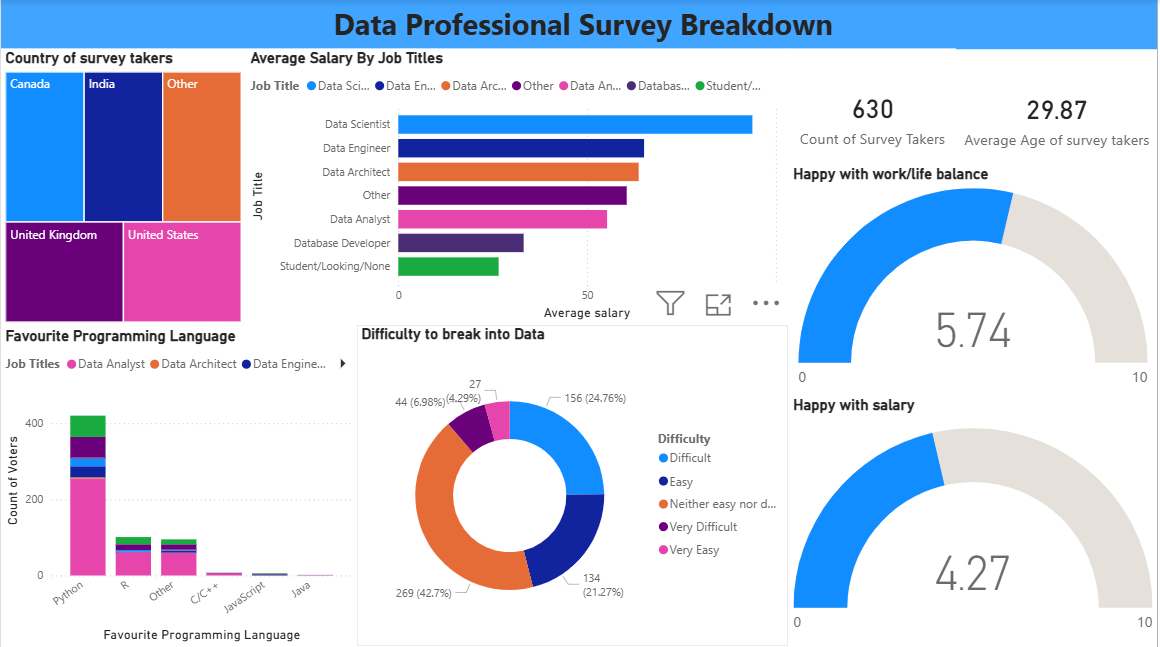

This screenshot's page, from the dashboard's own definition file:
{"tool":"powerbi","page":{"name":"Page 1","canvas":[1280,720],"ordinal":0},"visuals":[{"type":"textbox","box":[0,0,1279.6,55.6],"z":0},{"type":"card","fields":{"Values":["Count(Data Professional Survey.Unique ID)"]},"box":[872.1,55.6,185.2,151],"z":1000},{"type":"card","fields":{"Values":["Avg(Data Professional Survey.Q10 - Current Age)"]},"box":[1057.3,57,222.3,149.6],"z":2000},{"type":"barChart","title":"Average Salary By Job Titles","fields":{"Category":["Data Professional Survey.Q1 - Which Title Best Fits your Current Role?.1"],"Y":["Avg(Data Professional Survey.Average salary)"],"Series":["Data Professional Survey.Q1 - Which Title Best Fits your Current Role?.1"]},"box":[270.7,55.6,601.3,304.9],"z":3000},{"type":"columnChart","title":"Favourite Programming Language","fields":{"Category":["Data Professional Survey.Q5 - Favorite Programming Language.1"],"Y":["CountNonNull(Data Professional Survey.Unique ID)"],"Series":["Data Professional Survey.Q1 - Which Title Best Fits your Current Role?.1"]},"box":[0,363.4,393.3,353.4],"z":4000},{"type":"treemap","title":"Country of survey takers","fields":{"Group":["Data Professional Survey.Q11 - Which Country do you live in?.1"],"Values":["Count(Data Professional Survey.Q11 - Which Country do you live in?.1)"]},"box":[0,55.6,270.7,307.8],"z":5000},{"type":"gauge","title":"Happy with work/life balance","fields":{"MinValue":["Min(Data Professional Survey.Q6 - How Happy are you in your Current Position with the following? (Work/Life Balance))"],"MaxValue":["Max(Data Professional Survey.Q6 - How Happy are you in your Current Position with the following? (Work/Life Balance))1"],"Y":["Avg(Data Professional Survey.Q6 - How Happy are you in your Current Position with the following? (Work/Life Balance))"]},"box":[872.1,183.8,407.5,255.1],"z":6000},{"type":"gauge","title":"Happy with salary","fields":{"Y":["Avg(Data Professional Survey.Q6 - How Happy are you in your Current Position with the following? (Salary))"],"MinValue":["Min(Data Professional Survey.Q6 - How Happy are you in your Current Position with the following? (Salary))"],"MaxValue":["Max(Data Professional Survey.Q6 - How Happy are you in your Current Position with the following? (Salary))"]},"box":[872.1,438.9,407.5,280.7],"z":7000},{"type":"donutChart","title":"Difficulty to break into Data","fields":{"Series":["Data Professional Survey.Q7 - How difficult was it for you to break into Data?"],"Y":["CountNonNull(Data Professional Survey.Q7 - How difficult was it for you to break into Data?)"]},"box":[393.3,360.5,478.8,356.2],"z":8000}]}

Visuals, with their boxes in screenshot pixels (x1, y1, x2, y2), scaled from the page's 1280x720 canvas onto the 1160x647 screenshot:
textbox: (0, 0, 1159, 50)
card - Count(Data Professional Survey.Unique ID): (790, 50, 958, 186)
card - Avg(Data Professional Survey.Q10 - Current Age): (958, 51, 1159, 186)
"Average Salary By Job Titles" barChart: (245, 50, 790, 324)
"Favourite Programming Language" columnChart: (0, 327, 356, 644)
"Country of survey takers" treemap: (0, 50, 245, 327)
"Happy with work/life balance" gauge: (790, 165, 1159, 394)
"Happy with salary" gauge: (790, 394, 1159, 646)
"Difficulty to break into Data" donutChart: (356, 324, 790, 644)
